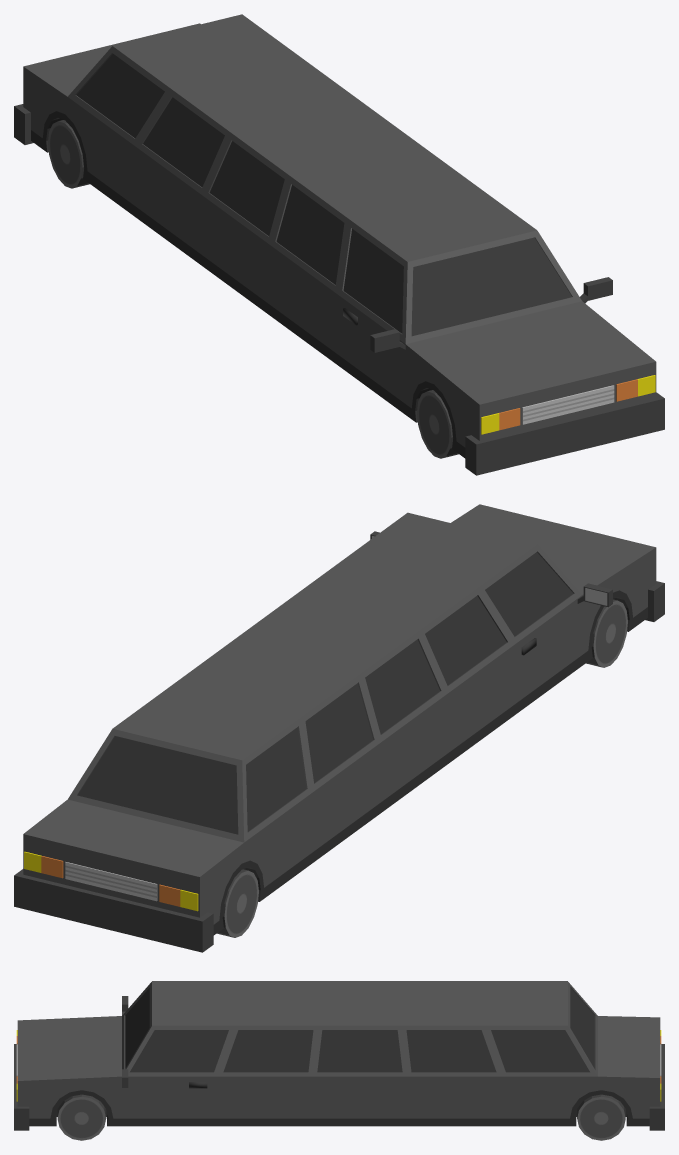
File: limousine01_color02.fbx
3 renders of one model, top to bottom at view 1: azimuth 30°, elevation 25°; view 2: azimuth 150°, elevation 25°; view 3: azimuth 270°, elevation 25°, orthographic. The views are drawn at different scales.
Visible parts, largest first — view 1: Cube.454, Cube.458, Cube.457; view 2: Cube.454, Cube.457, Cube.458; view 3: Cube.454, Cube.456, Cube.455.
Part boxes in pixels (left/top/right/bottom): Cube.454: left=14, top=14, right=664, bottom=475; Cube.458: left=417, top=390, right=458, bottom=458; Cube.457: left=48, top=120, right=89, bottom=188; Cube.454: left=14, top=504, right=664, bottom=952; Cube.457: left=217, top=869, right=258, bottom=937; Cube.458: left=586, top=599, right=627, bottom=667; Cube.454: left=14, top=981, right=664, bottom=1130; Cube.456: left=57, top=1094, right=106, bottom=1140; Cube.455: left=577, top=1094, right=625, bottom=1140.
Size of the model in its own units: 270 by 165 by 907.
